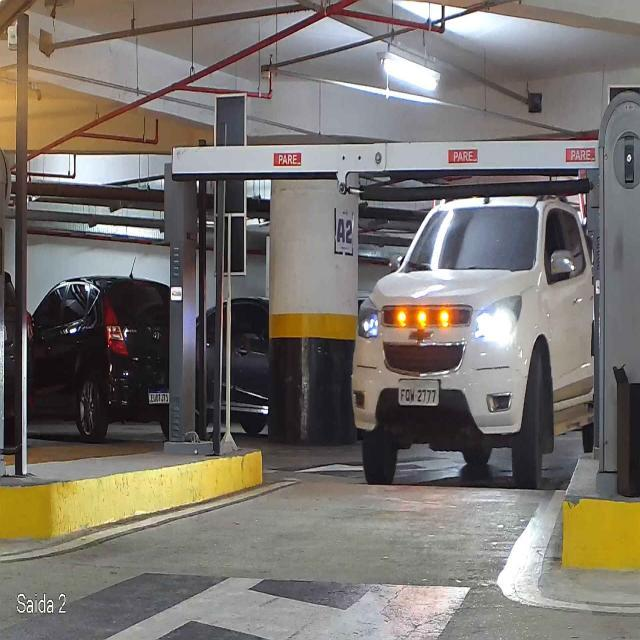old_plate: (397, 377, 441, 407)
